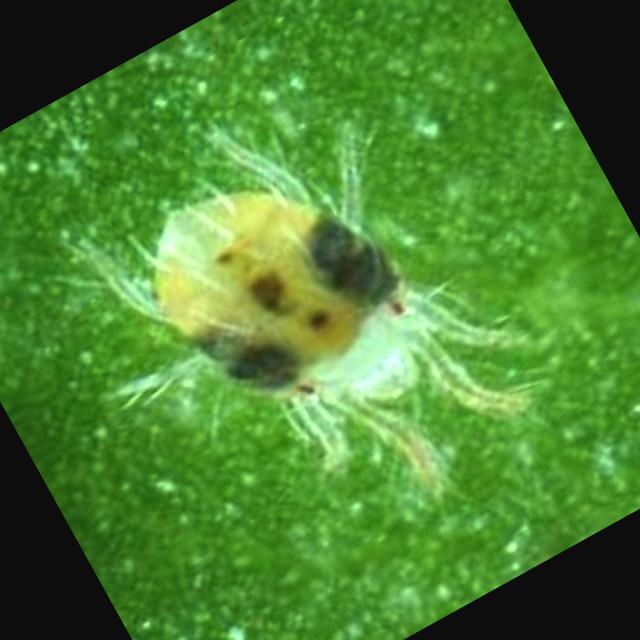spider mite: (19, 33, 609, 618)
